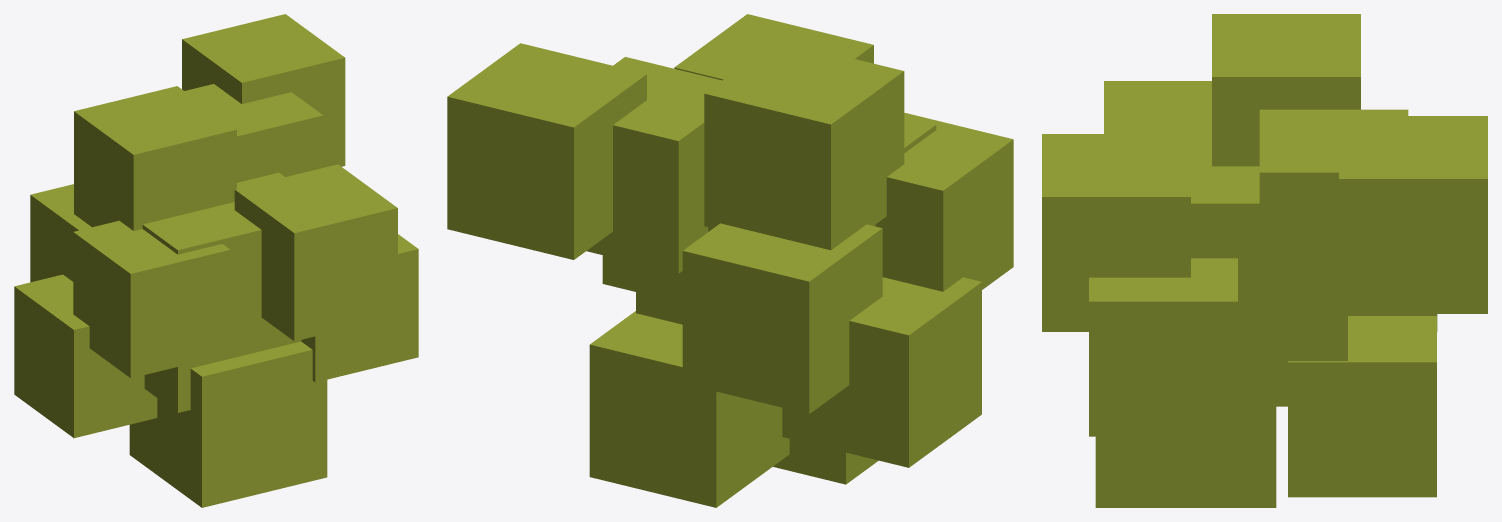
Rendered from Bush3.fbx.
The picture shows the model from 3 angles, left to right: view 1: azimuth 30°, elevation 25°; view 2: azimuth 150°, elevation 25°; view 3: azimuth 270°, elevation 25°; orthographic projection. The views are drawn at different scales.
Parts seen in each view (by area): view 1: Cube.012; view 2: Cube.012; view 3: Cube.012.
Part boxes in pixels (x1,y1,x2,y2): Cube.012: (14, 14, 418, 507); Cube.012: (447, 14, 1013, 507); Cube.012: (1042, 14, 1487, 507).
Bounding box in the file's own units: 2.56 × 2.44 × 2.44.
